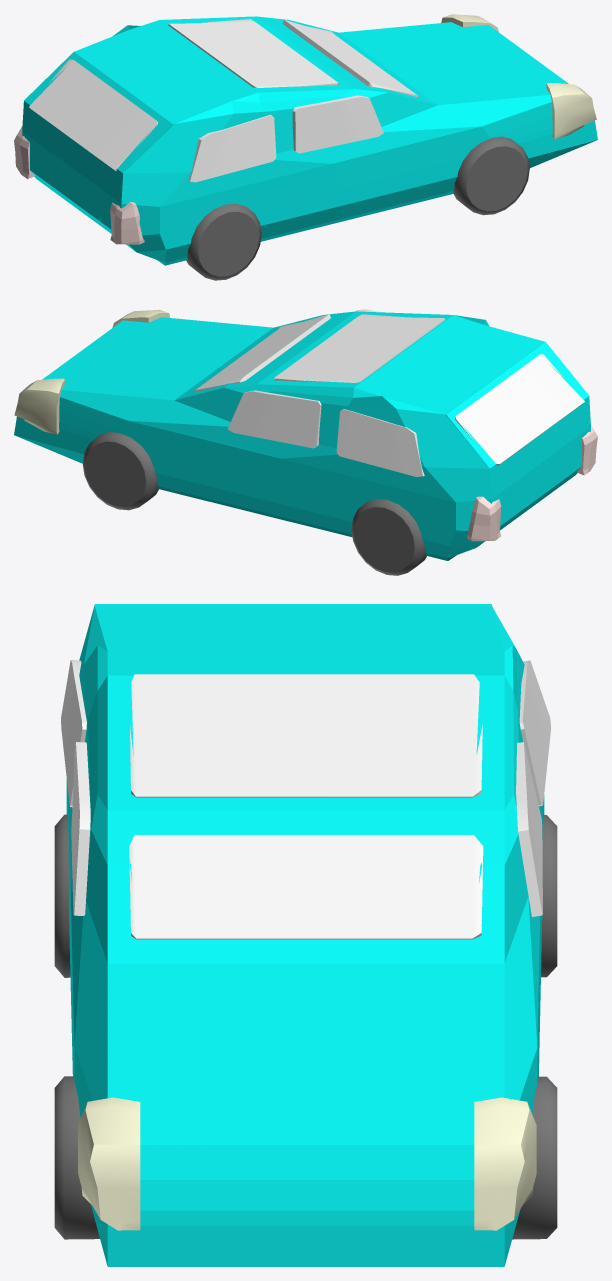
Rendered from CarroAzul.fbx.
3 renders of one model, top to bottom at view 1: azimuth 30°, elevation 25°; view 2: azimuth 150°, elevation 25°; view 3: azimuth 270°, elevation 25°, orthographic. The views are drawn at different scales.
Visible parts, largest first — view 1: pCube1, pCube10, pCube15, pCylinder1, pCylinder2, pCube8, pCube13, pCube6, pCube9, pCube11; view 2: pCube1, pCube10, pCube15, pCylinder3, pCylinder4, pCube12, pCube14, pCube6, pCube9, pCube11; view 3: pCube1, pCube15, pCube6, pCube9, pCylinder1, pCylinder3, pCube12, pCube14, pCube8, pCylinder4, pCylinder2, pCube13.
Part boxes in pixels (<box>): pCube1: <box>22,16,597,265</box>; pCube10: <box>29,59,157,170</box>; pCube15: <box>168,19,339,87</box>; pCylinder1: <box>454,136,529,215</box>; pCylinder2: <box>186,203,261,280</box>; pCube8: <box>292,95,383,153</box>; pCube13: <box>188,114,276,182</box>; pCube6: <box>282,20,418,97</box>; pCube9: <box>441,14,596,139</box>; pCube11: <box>14,126,144,244</box>; pCube1: <box>14,311,590,560</box>; pCube10: <box>455,354,584,465</box>; pCube15: <box>274,314,445,382</box>; pCylinder3: <box>82,432,158,510</box>; pCylinder4: <box>351,499,426,575</box>; pCube12: <box>228,390,321,448</box>; pCube14: <box>336,409,424,476</box>; pCube6: <box>193,314,330,392</box>; pCube9: <box>14,309,170,434</box>; pCube11: <box>467,425,597,541</box>; pCube1: <box>66,604,544,1266</box>; pCube15: <box>130,674,482,797</box>; pCube6: <box>129,835,483,939</box>; pCube9: <box>78,1097,536,1230</box>; pCylinder1: <box>54,1076,99,1239</box>; pCylinder3: <box>512,1076,557,1239</box>; pCube12: <box>516,742,542,916</box>; pCube14: <box>519,660,551,806</box>; pCube8: <box>71,742,90,915</box>; pCylinder4: <box>541,815,557,977</box>; pCylinder2: <box>54,814,70,977</box>; pCube13: <box>61,660,86,807</box>.
Size of the model in its own units: 24.46 by 8.28 by 11.09.
